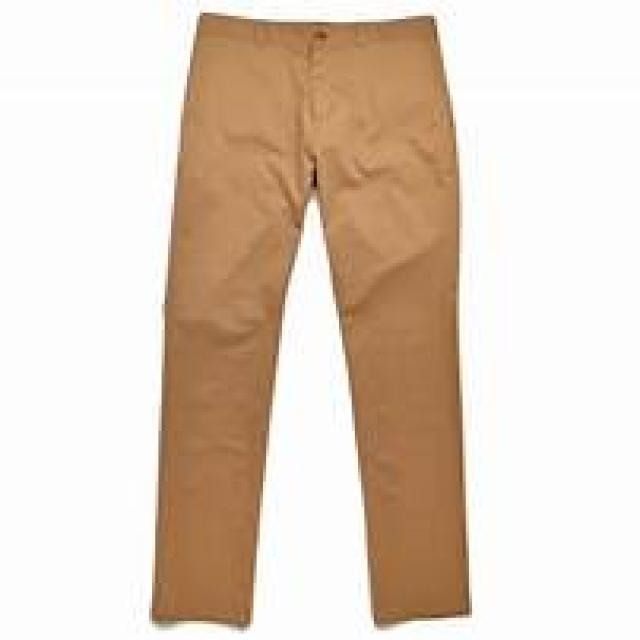long-pants: (148, 10, 478, 630)
